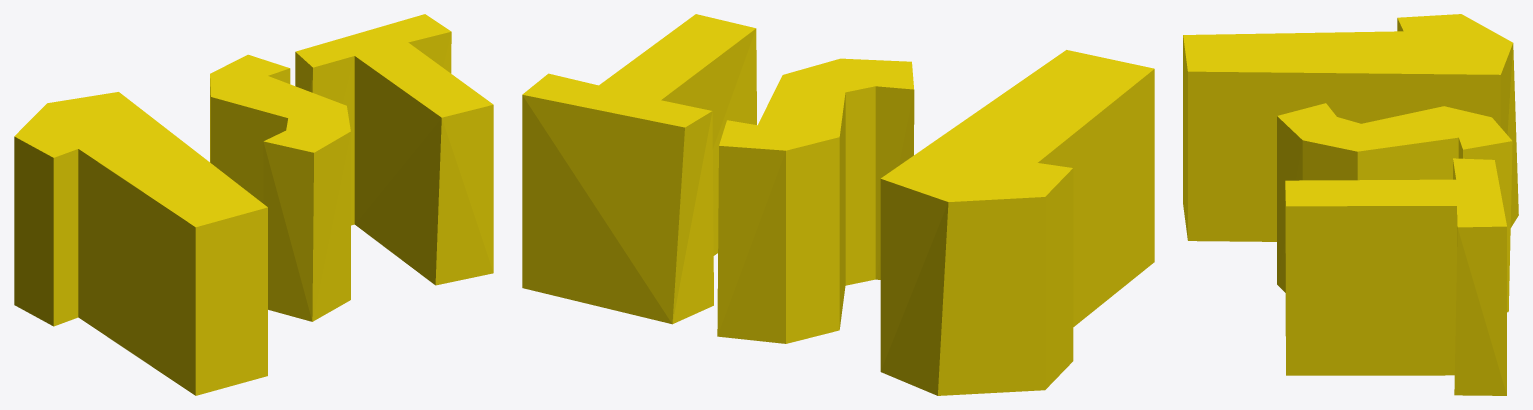
The picture shows the model from 3 angles, left to right: view 1: azimuth 30°, elevation 25°; view 2: azimuth 150°, elevation 25°; view 3: azimuth 270°, elevation 25°; orthographic projection. The views are drawn at different scales.
Visible parts, largest first — view 1: Text_1st; view 2: Text_1st; view 3: Text_1st.
Boxes of the visible parts, x1,y1,x2,y2 form: Text_1st: [14, 14, 493, 395]; Text_1st: [522, 14, 1154, 395]; Text_1st: [1183, 14, 1518, 395].
Bounding box in the file's own units: 101 × 37.5 × 67.35.
